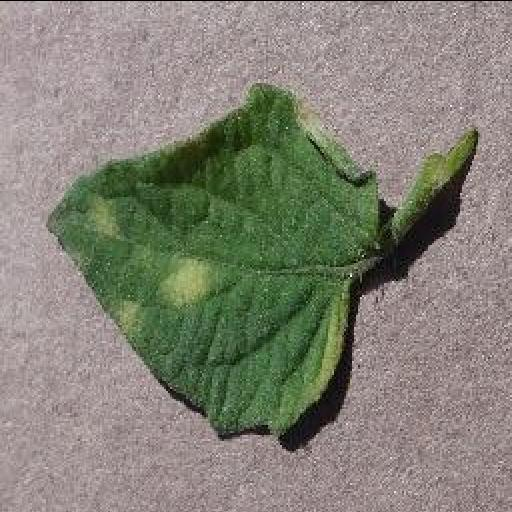disease_tomato: (46, 82, 382, 434)
